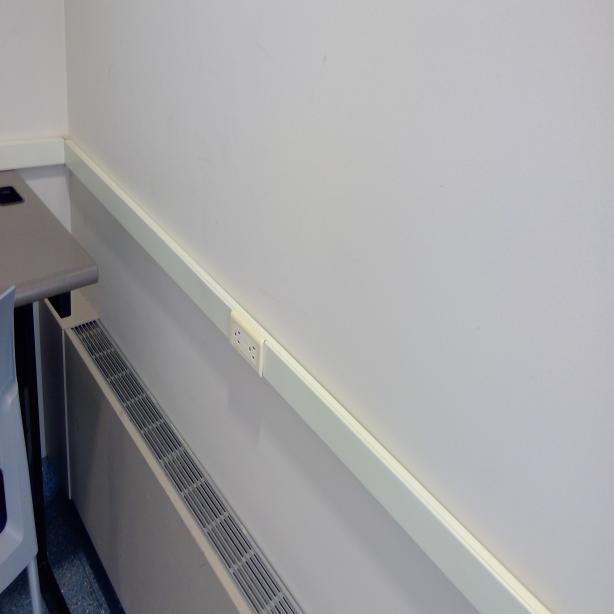typeb: (232, 322, 243, 348), (247, 339, 258, 363)
